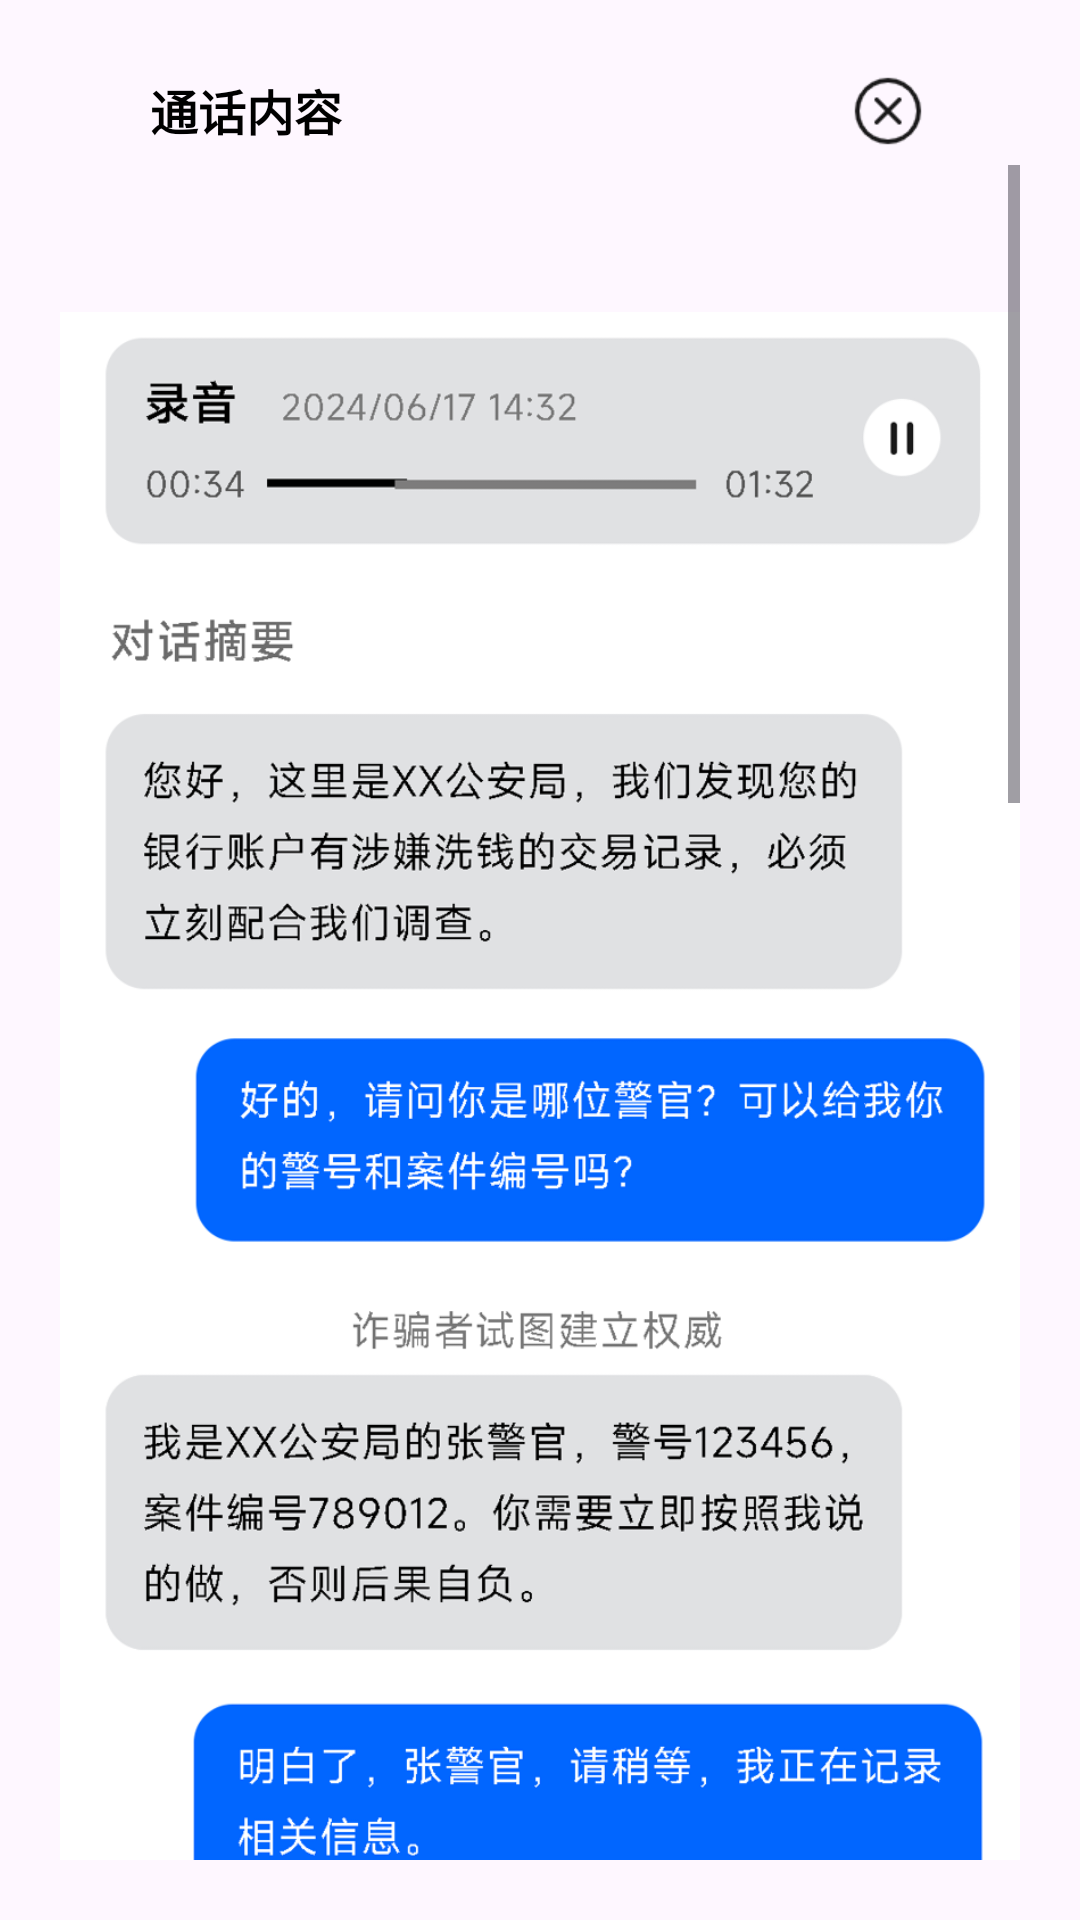

Screen size 1080×1920. Icon name, then its center in pixels as (x,y):
xmark circle: (888,111)
